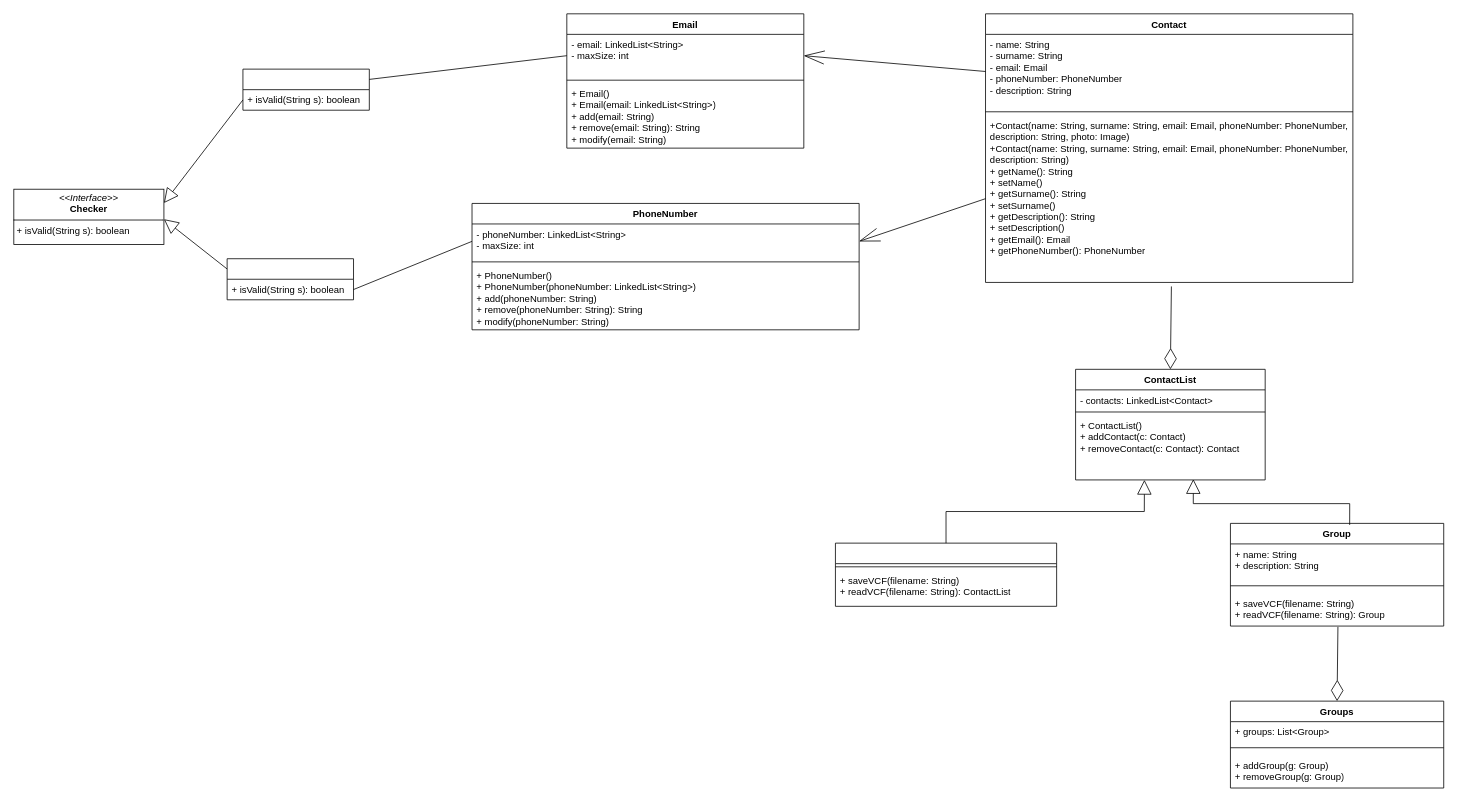
This 1458x804 diagram has some shape labels left out. The shapes that lost their labels are listed below. From the top down, each one's box as (x1, y1, x2, y2) in pixels, then its label:
(242, 68, 369, 110): EmailChecker
(226, 258, 354, 300): PhoneChecker
(835, 542, 1057, 606): Rubrica
